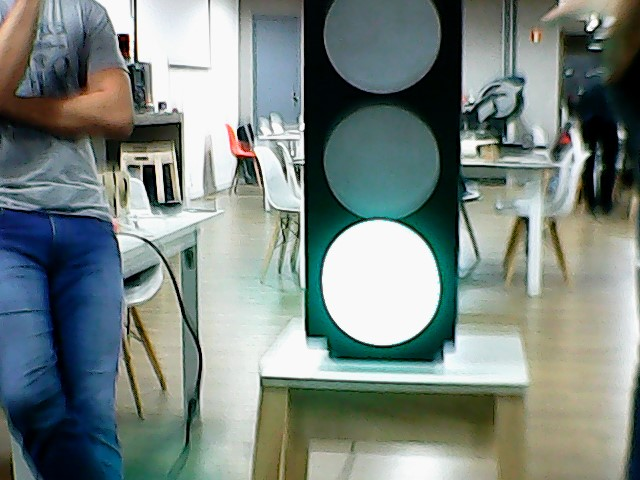verde: (300, 1, 468, 356)
